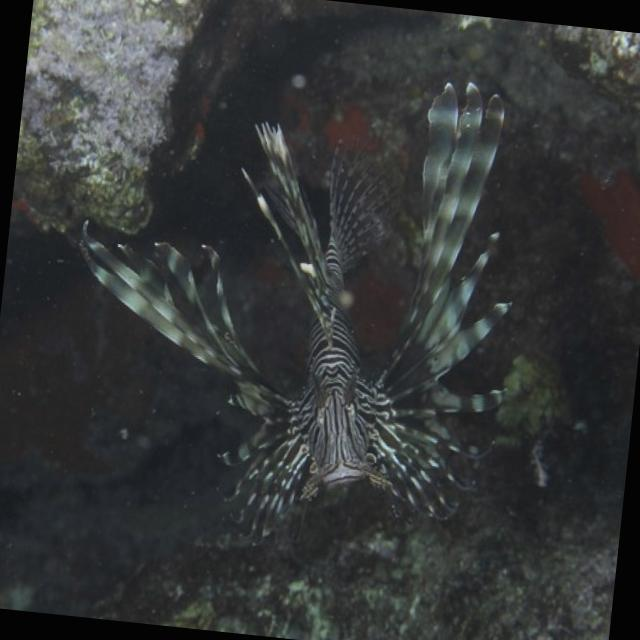Aslan Baligi: (45, 38, 542, 572)
